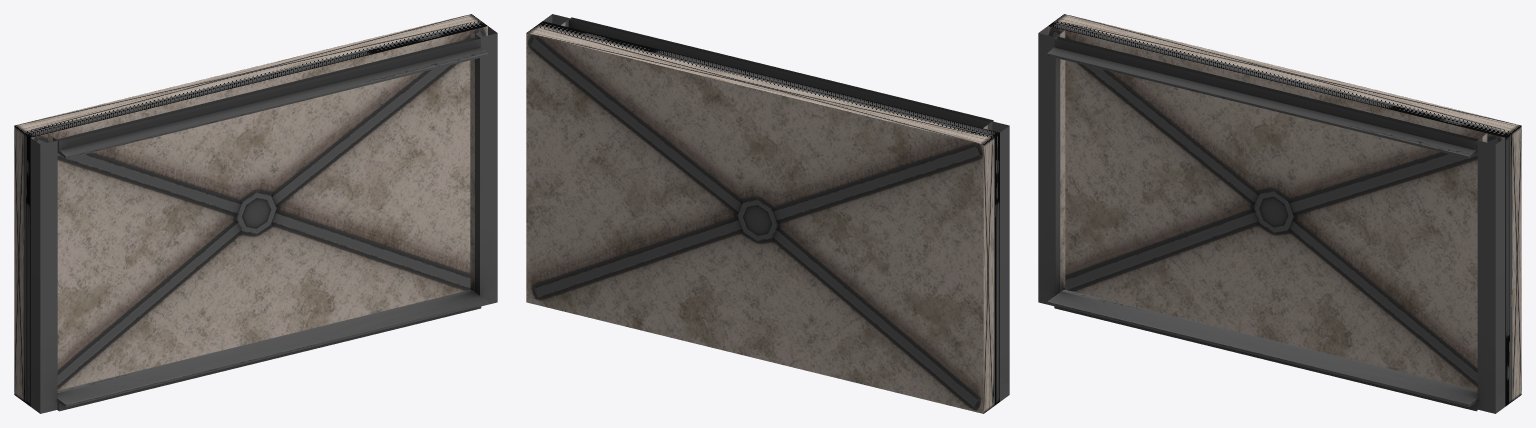
Rendered from concreteBeamWall01.dae.
The picture shows the model from 3 angles, left to right: view 1: azimuth 30°, elevation 25°; view 2: azimuth 150°, elevation 25°; view 3: azimuth 330°, elevation 25°; orthographic projection.
Parts seen in each view (by area): view 1: polySurface15; view 2: polySurface15; view 3: polySurface15.
Part boxes in pixels (left/top/right/bottom): polySurface15: left=14, top=14, right=497, bottom=413; polySurface15: left=526, top=14, right=1009, bottom=413; polySurface15: left=1038, top=14, right=1521, bottom=413.
Size of the model in its own units: 8 by 4.51 by 1.05.
1 material, 1 textured.
